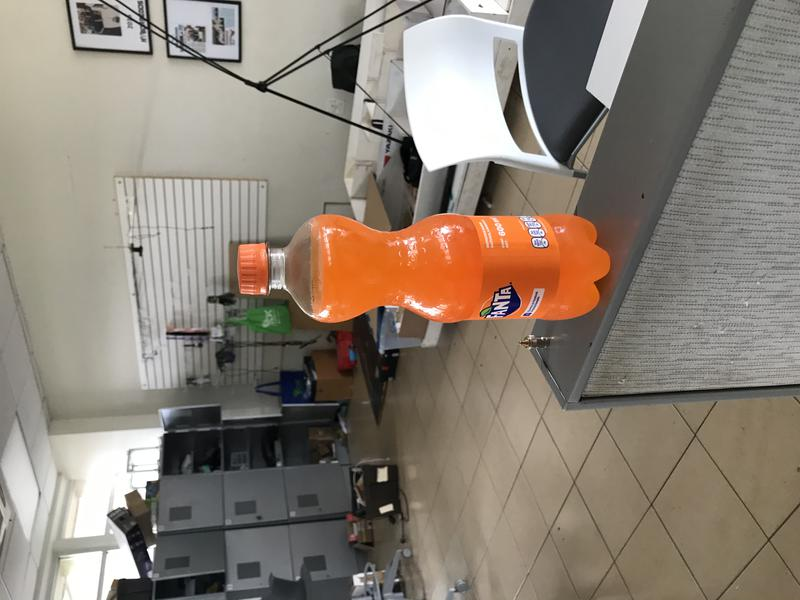fanta: (237, 213, 610, 324)
